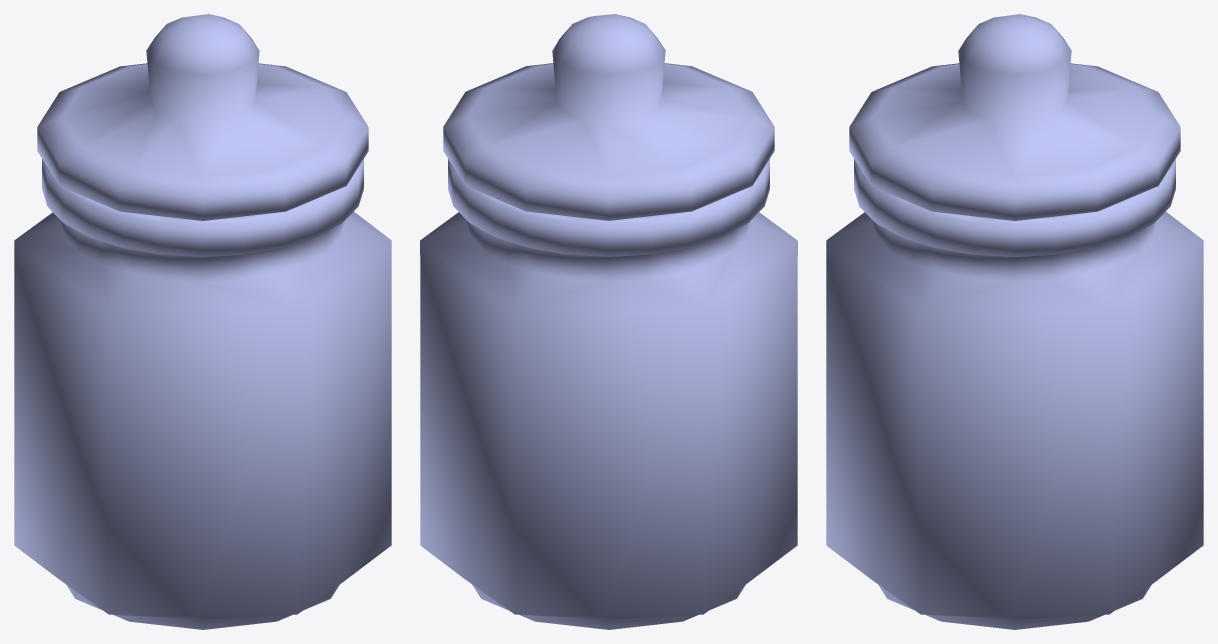
File: tooth.fbx
3 renders of one model, left to right at view 1: azimuth 30°, elevation 25°; view 2: azimuth 150°, elevation 25°; view 3: azimuth 270°, elevation 25°, orthographic.
Visible parts, largest first — view 1: kitchen.preserving.jar.angled; view 2: kitchen.preserving.jar.angled; view 3: kitchen.preserving.jar.angled.
Boxes of the visible parts, box(x1,y1,x2,y2) form: kitchen.preserving.jar.angled: box(14, 14, 391, 629); kitchen.preserving.jar.angled: box(420, 14, 797, 629); kitchen.preserving.jar.angled: box(826, 14, 1203, 629).
Bounding box in the file's own units: 472 × 860 × 538.
